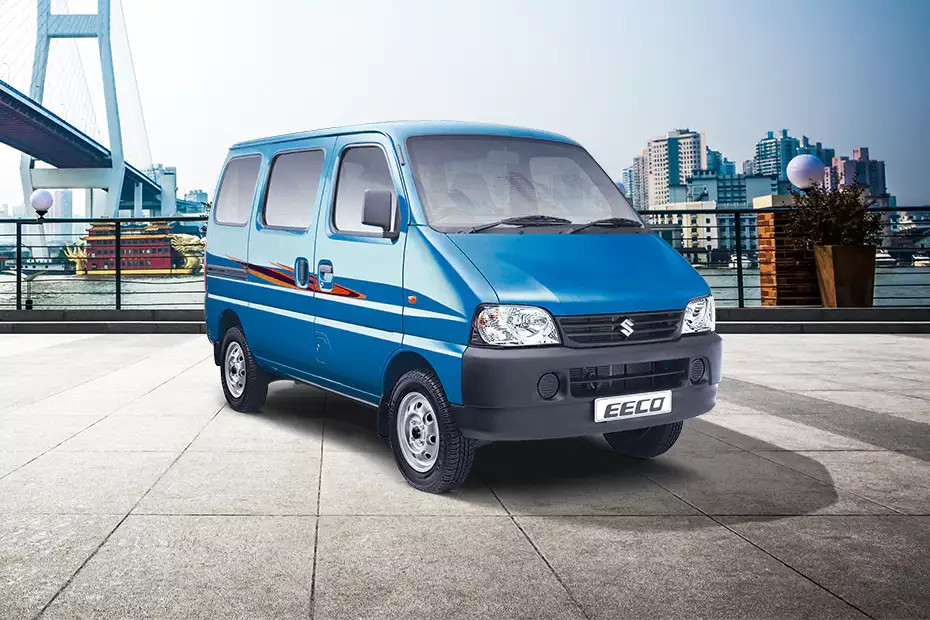van: (202, 117, 723, 493)
